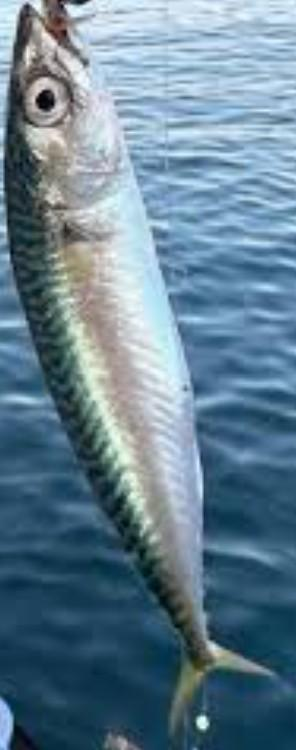fish: (5, 0, 268, 727)
